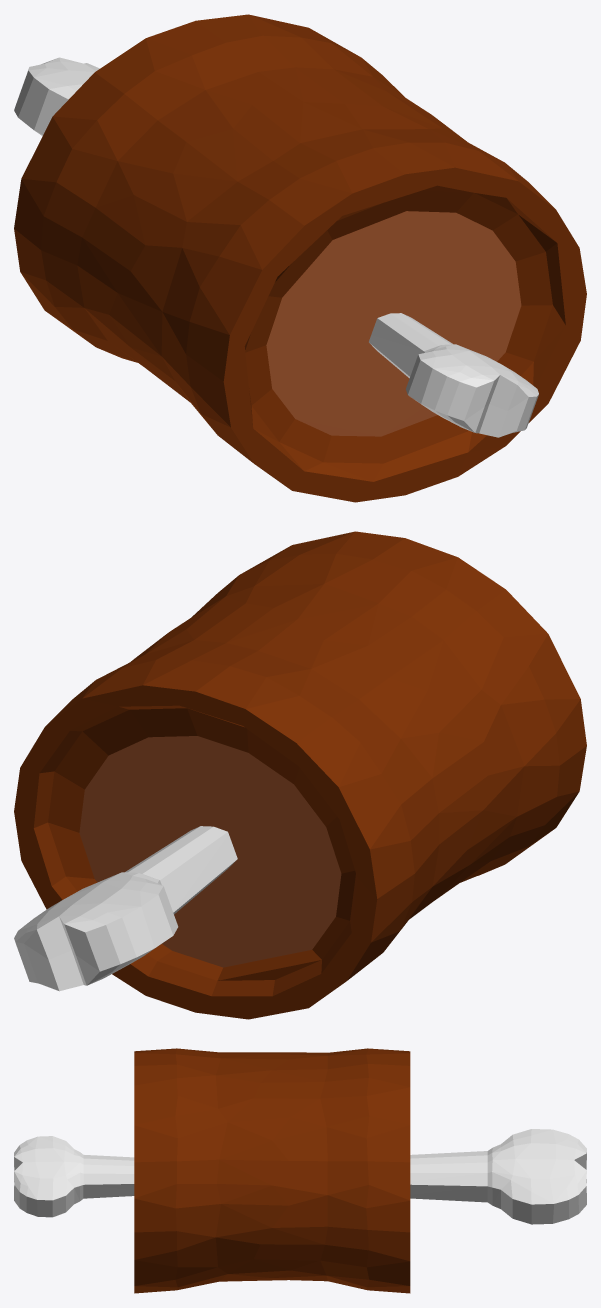
The model's file is Carne2.fbx.
The picture shows the model from 3 angles, top to bottom: view 1: azimuth 30°, elevation 25°; view 2: azimuth 150°, elevation 25°; view 3: azimuth 270°, elevation 25°; orthographic projection. The views are drawn at different scales.
Visible parts, largest first — view 1: Carne3; view 2: Carne3; view 3: Carne3.
Boxes of the visible parts, left/top/right/bottom form: Carne3: left=14, top=14, right=586, bottom=502; Carne3: left=14, top=531, right=586, bottom=1019; Carne3: left=14, top=1048, right=586, bottom=1293.
Size of the model in its own units: 103 by 85.05 by 207.
